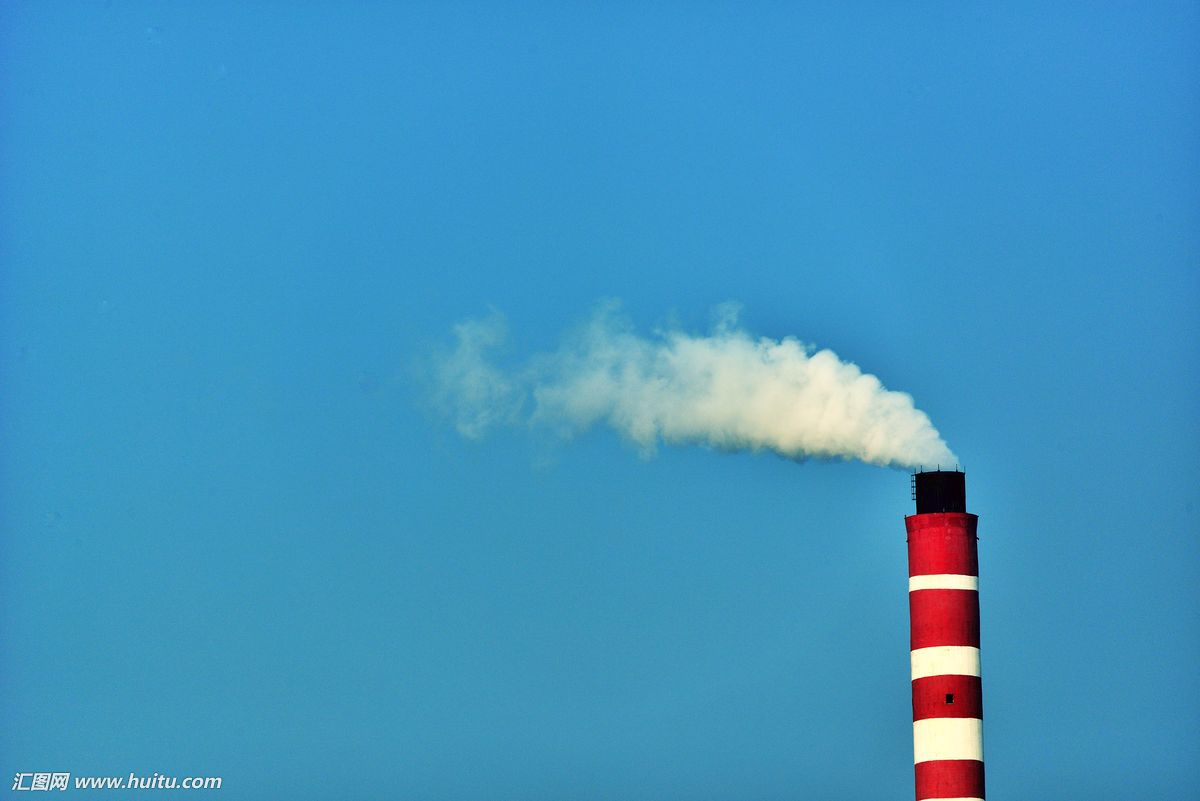dust: (570, 299, 980, 492)
